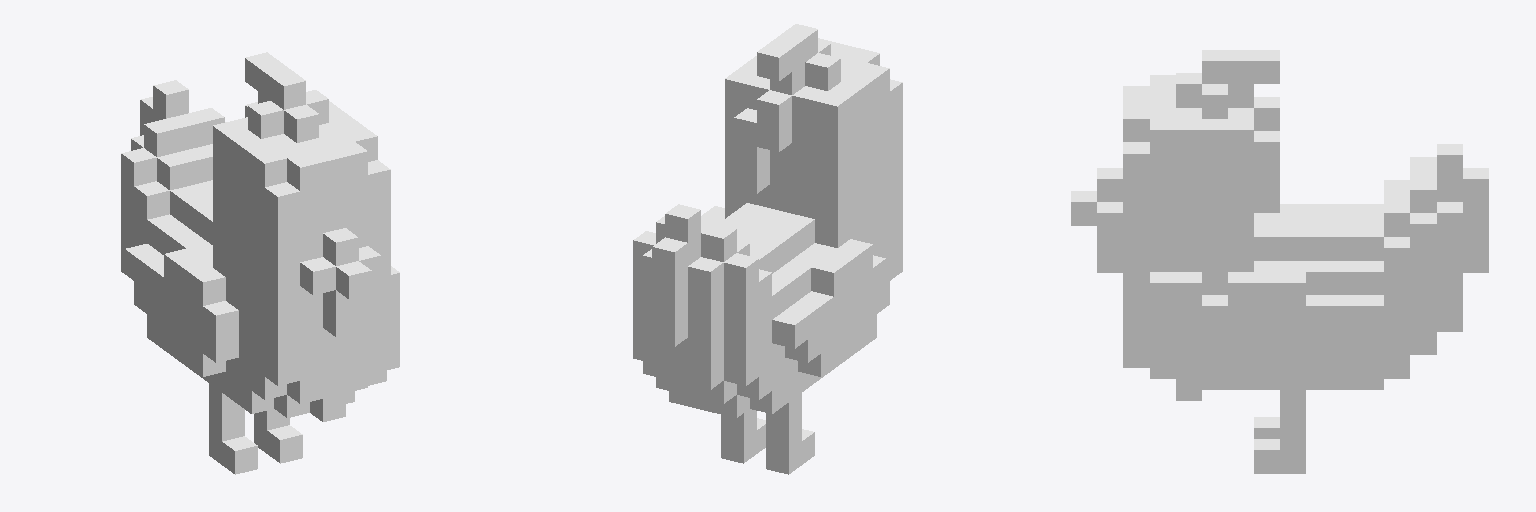
The model's file is cchic.obj.
The picture shows the model from 3 angles: view 1: azimuth 30°, elevation 25°; view 2: azimuth 150°, elevation 25°; view 3: azimuth 270°, elevation 25°; orthographic projection.
Visible parts, largest first — view 1: object 1; view 2: object 1; view 3: object 1.
Part boxes in pixels (bbox=[...]): object 1: bbox=[121, 52, 399, 474]; object 1: bbox=[633, 24, 902, 474]; object 1: bbox=[1071, 50, 1488, 473].
Size of the model in its own units: 0.7 by 1.7 by 1.6.